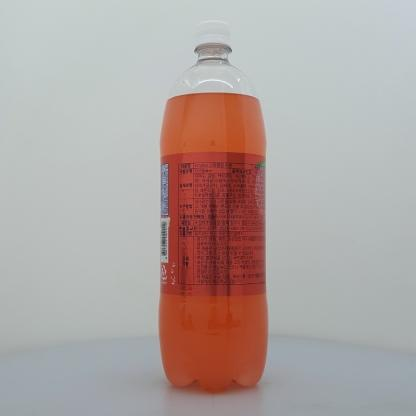--------------: (158, 20, 269, 392)
